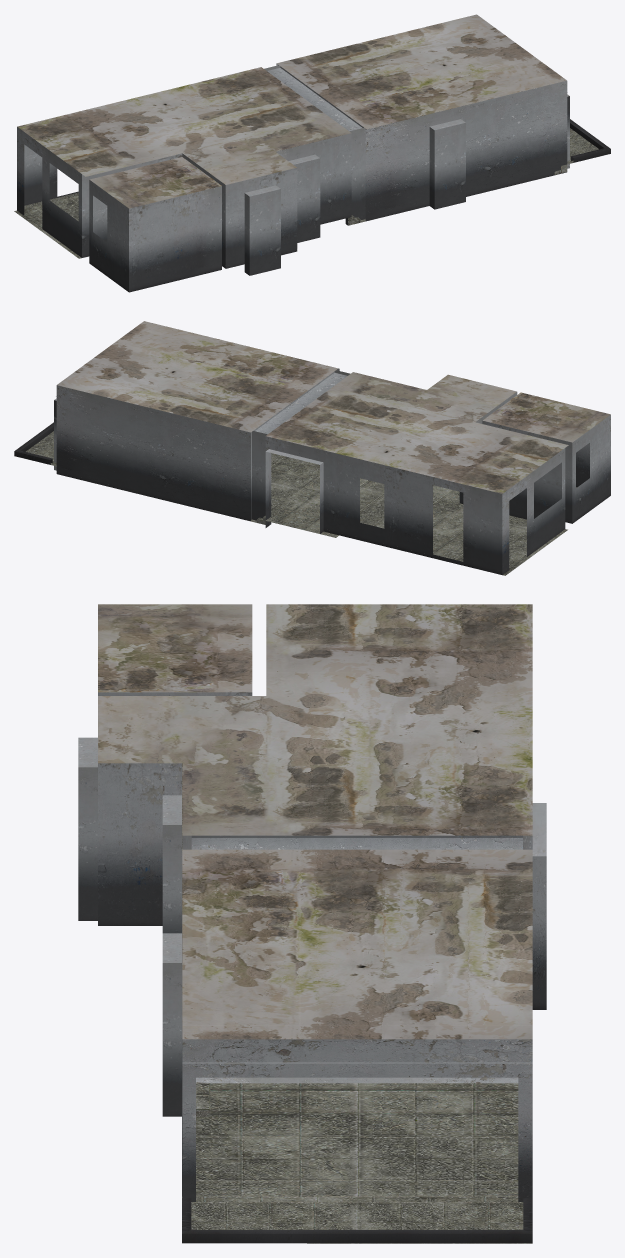
File: A1_H2_WFC.FBX
The picture shows the model from 3 angles, top to bottom: view 1: azimuth 30°, elevation 25°; view 2: azimuth 150°, elevation 25°; view 3: azimuth 270°, elevation 25°; orthographic projection. The views are drawn at different scales.
Parts seen in each view (by area): view 1: A1_H2_Ceiling, A1_H2_LR_Walls, A1_H2_T1_Walls, A1_H2_LR_Floor; view 2: A1_H2_Ceiling, A1_H2_LR_Walls, A1_H2_LR_Floor, A1_H2_T1_Walls; view 3: A1_H2_Ceiling, A1_H2_LR_Walls, A1_H2_LR_Floor.
Boxes of the visible parts, x1=… form: A1_H2_Ceiling: x1=17, y1=14, x2=566, y2=208; A1_H2_LR_Walls: x1=17, y1=63, x2=610, y2=275; A1_H2_T1_Walls: x1=89, y1=180, x2=221, y2=292; A1_H2_LR_Floor: x1=14, y1=128, x2=598, y2=258; A1_H2_Ceiling: x1=57, y1=321, x2=610, y2=493; A1_H2_LR_Walls: x1=14, y1=368, x2=565, y2=574; A1_H2_LR_Floor: x1=25, y1=431, x2=567, y2=575; A1_H2_T1_Walls: x1=482, y1=414, x2=610, y2=523; A1_H2_Ceiling: x1=98, y1=604, x2=532, y2=1039; A1_H2_LR_Walls: x1=78, y1=737, x2=546, y2=1243; A1_H2_LR_Floor: x1=182, y1=1083, x2=532, y2=1243.
Size of the model in its own units: 2024 by 351 by 835.
